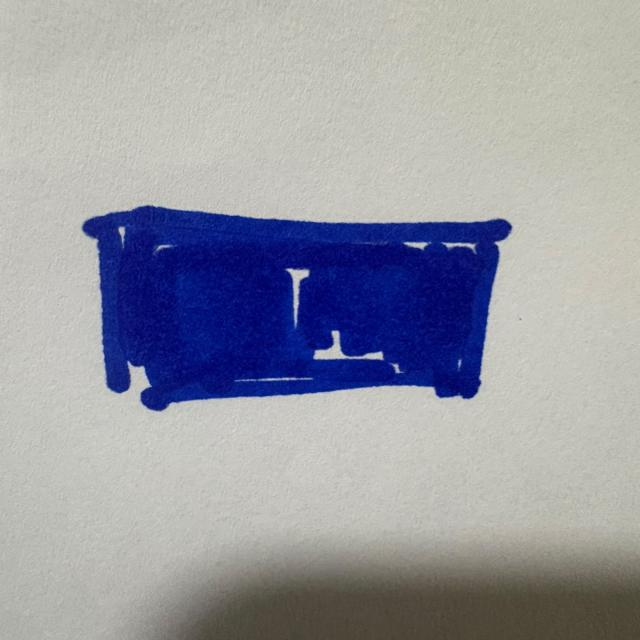Rectangle: (77, 194, 514, 413)
